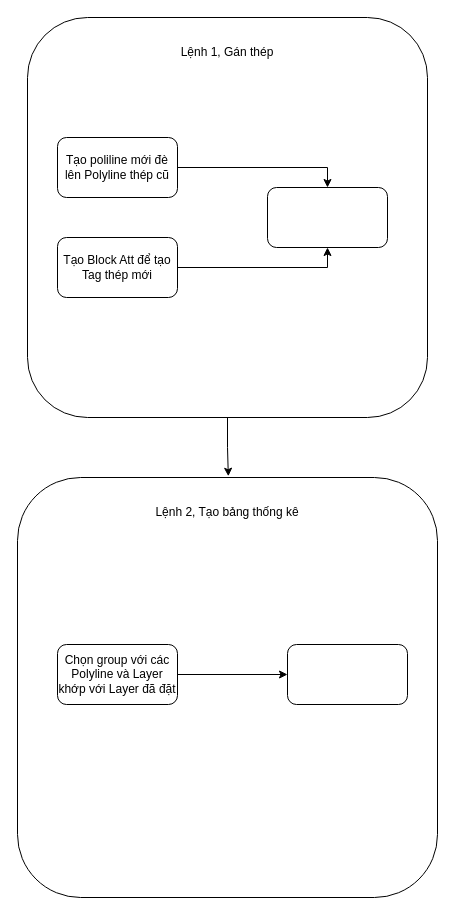
Image size: 455x915. Some labels were removed from this diagram. Here are the shapes that lost their labels. From the top down, the centre of each, then its label:
pixel 327 217: Group Polyline và tag thép thành 1 Group
pixel 347 674: Tạo Block chứa bảng thống kê
